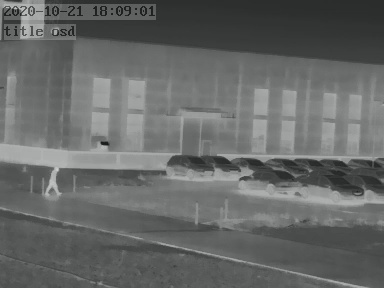person: (44, 165, 61, 197)
vehicle: (301, 171, 361, 200), (237, 171, 303, 195), (165, 153, 212, 178), (205, 154, 243, 177), (354, 174, 384, 203), (234, 155, 272, 172), (262, 156, 301, 171), (347, 156, 378, 170), (317, 157, 346, 170), (297, 157, 325, 169)
